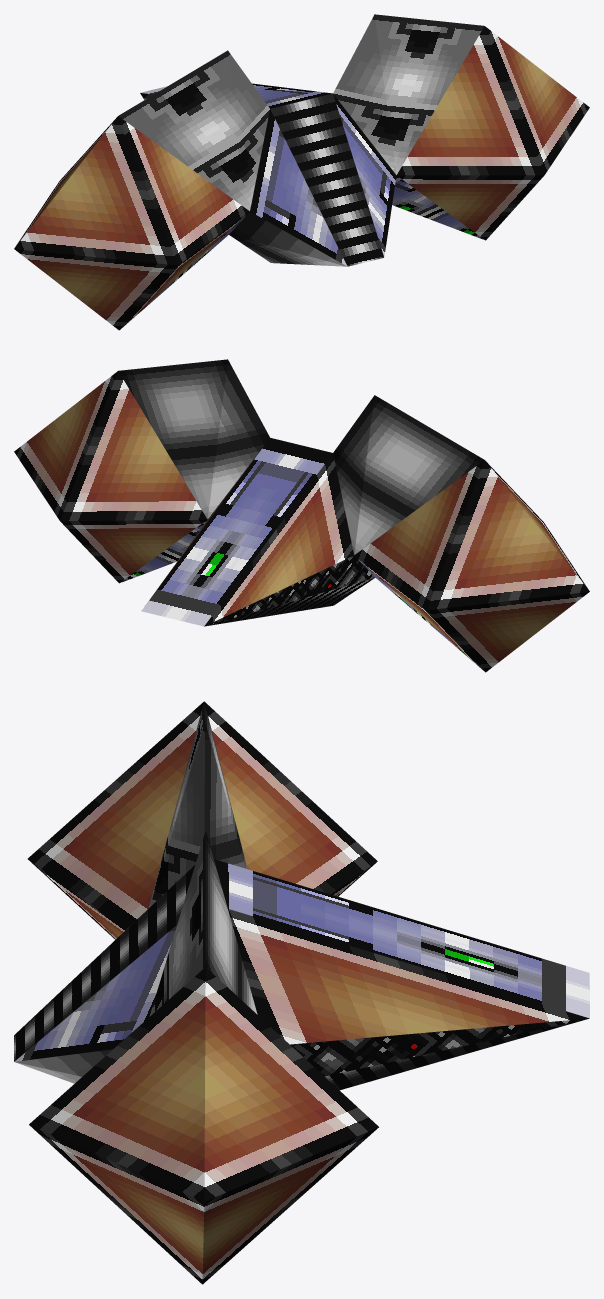
The picture shows the model from 3 angles, top to bottom: view 1: azimuth 30°, elevation 25°; view 2: azimuth 150°, elevation 25°; view 3: azimuth 270°, elevation 25°; orthographic projection. The views are drawn at different scales.
Visible parts, largest first — view 1: red, tailplate, eyeplate, pipe, specmetal; view 2: red, specmetal, eyeplate, machine, pipe; view 3: red, eyeplate, pipe, specmetal, tailplate, machine.
Boxes of the visible parts, x1,y1,x2,y2 form: red: (14, 26, 589, 330); tailplate: (118, 14, 484, 210); eyeplate: (123, 83, 484, 326); pipe: (270, 93, 383, 266); specmetal: (229, 211, 346, 266); red: (14, 371, 589, 672); specmetal: (118, 359, 484, 554); eyeplate: (120, 437, 479, 667); machine: (205, 555, 374, 626); pipe: (206, 578, 374, 626); red: (27, 701, 589, 1284); eyeplate: (14, 859, 589, 1061); pipe: (14, 865, 588, 1090); specmetal: (15, 702, 257, 1083); tailplate: (148, 702, 205, 1016); machine: (290, 1018, 587, 1076).
Size of the model in its own units: 220 by 128 by 92.03.
Materials: 6 (6 with a texture image).
